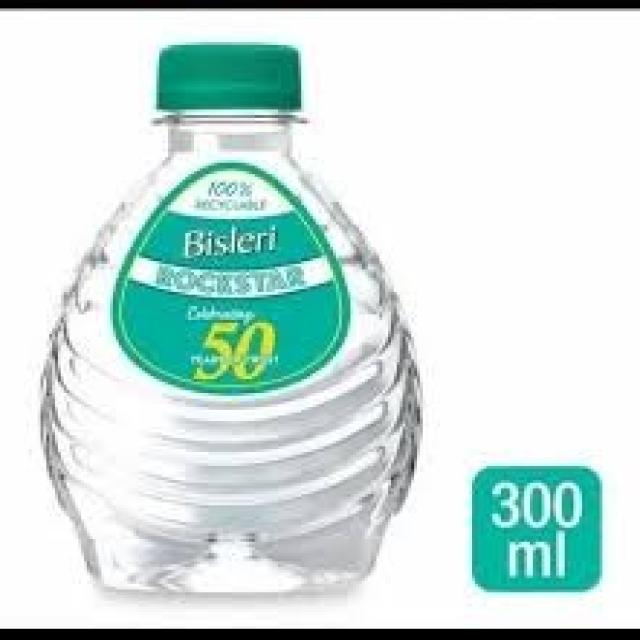bottle: (41, 32, 457, 617)
